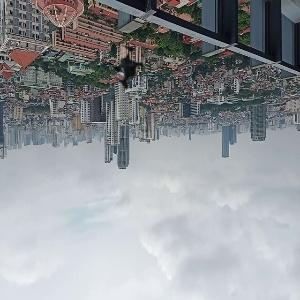drone: (100, 37, 169, 106)
